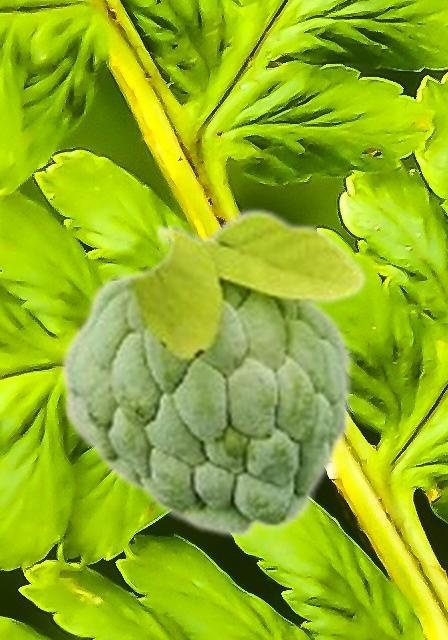atis: (57, 206, 368, 539)
